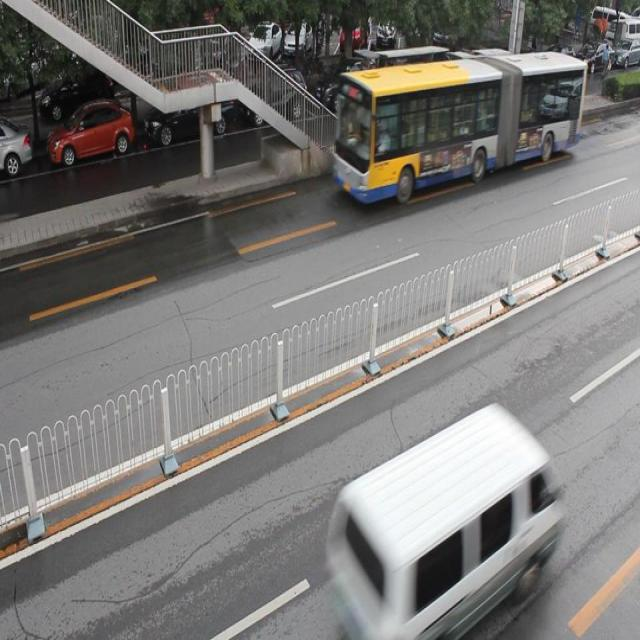car: (144, 86, 235, 150), (48, 102, 135, 166), (240, 66, 307, 127), (313, 59, 378, 118), (1, 124, 33, 179)
truck: (317, 400, 567, 640)
van: (328, 46, 586, 206)
